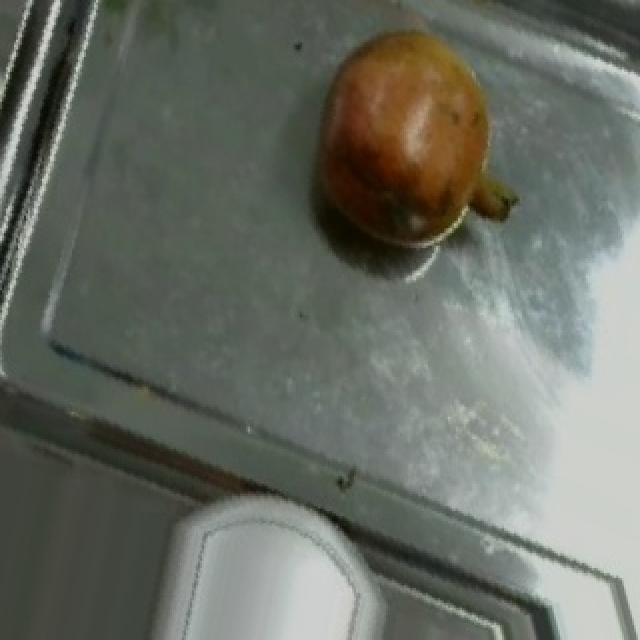fruit: (292, 0, 532, 273)
